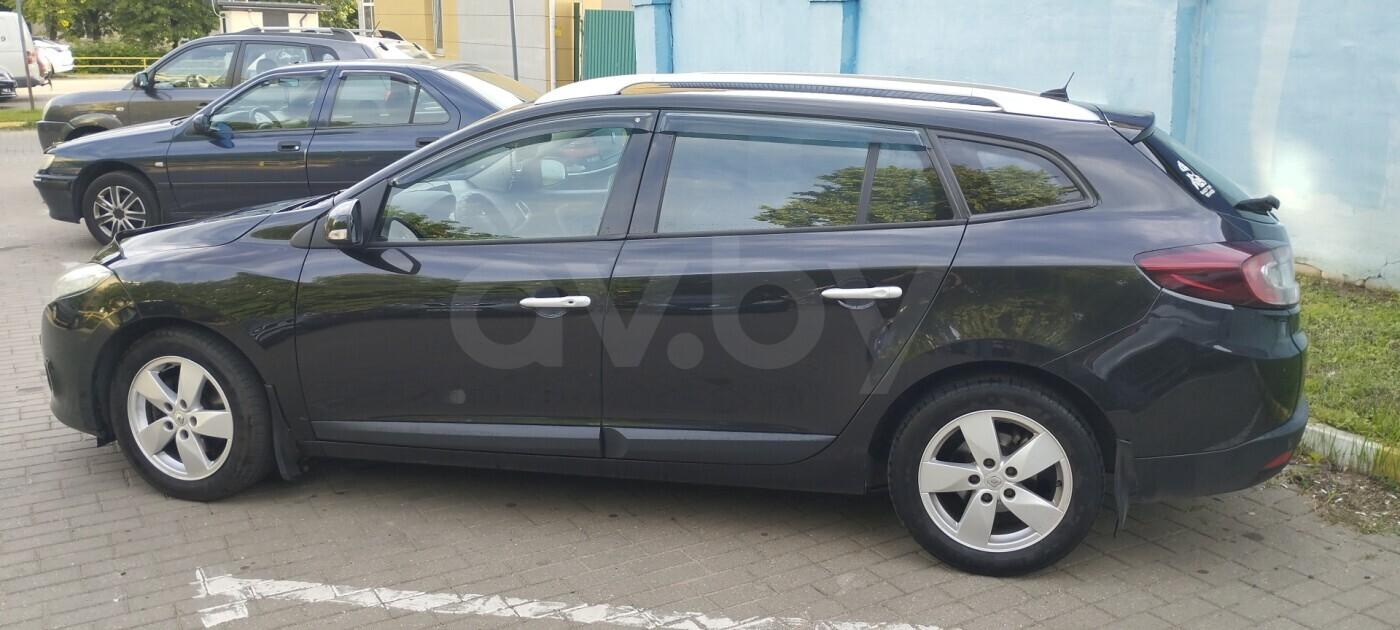Megane_2008-2014: (36, 86, 1313, 569)
